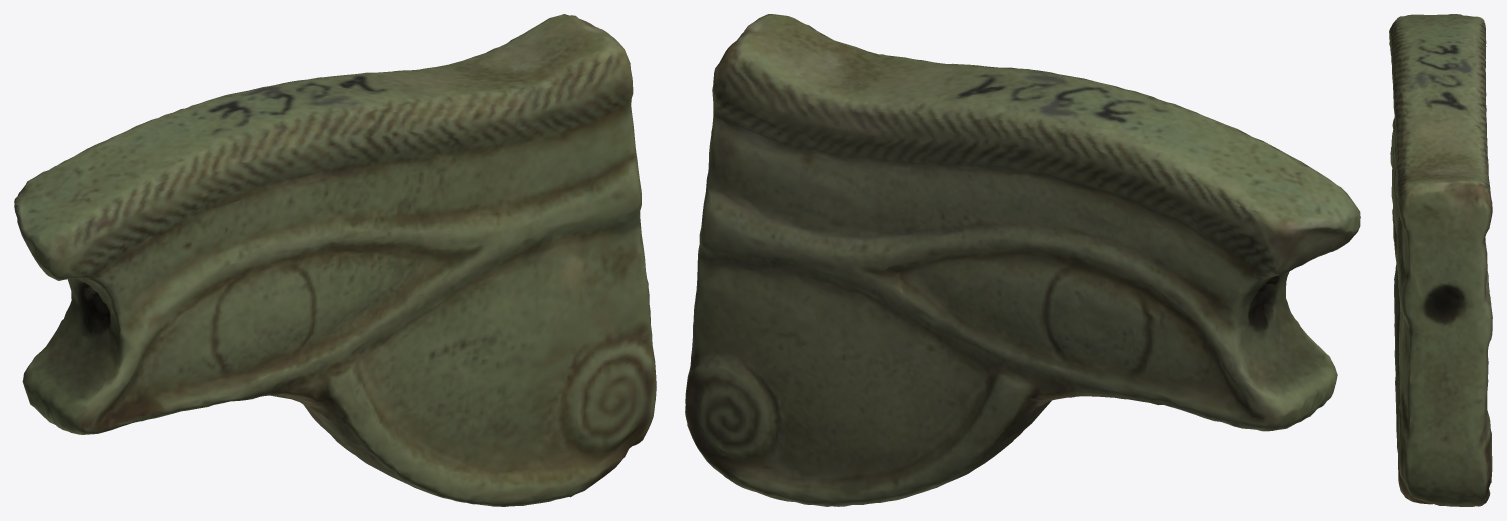
The picture shows the model from 3 angles, left to right: view 1: azimuth 30°, elevation 25°; view 2: azimuth 150°, elevation 25°; view 3: azimuth 270°, elevation 25°; orthographic projection. The views are drawn at different scales.
Visible parts, largest first — view 1: mat-0; view 2: mat-0; view 3: mat-0.
Part boxes in pixels (x1,y1,x2,y2): mat-0: [14, 14, 656, 506]; mat-0: [685, 14, 1360, 506]; mat-0: [1389, 14, 1492, 506].
Bounding box in the file's own units: 0.5656 × 0.3907 × 0.1096.
1 material, 1 textured.
